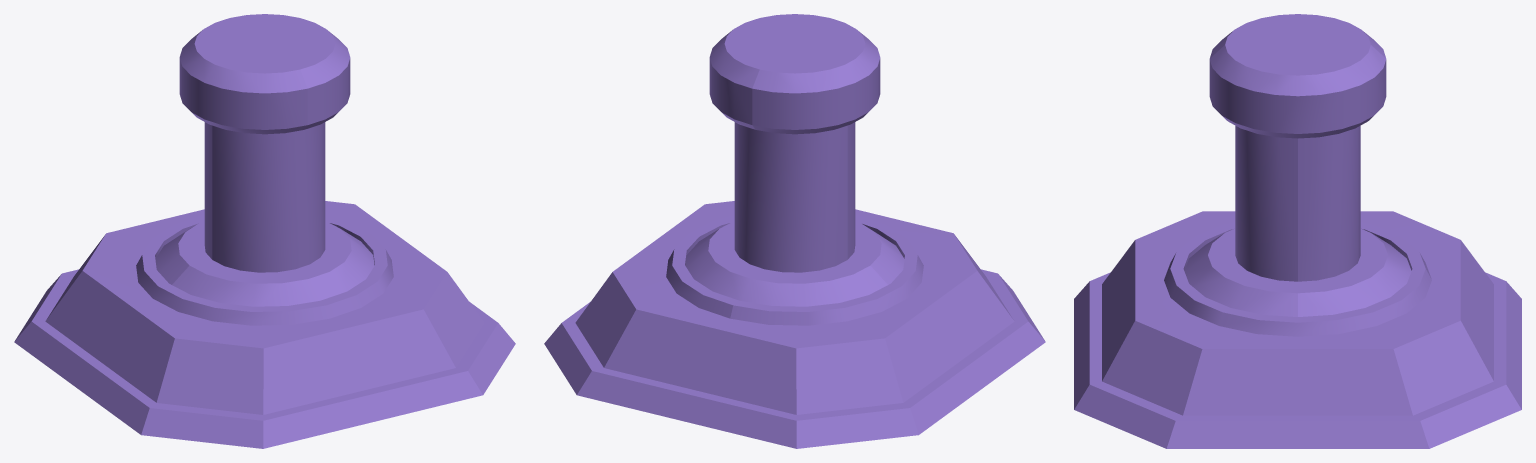
Rendered from env_kinematicbase_spinlever.fbx.
3 views of the same model, side by side, from view 1: azimuth 30°, elevation 25°; view 2: azimuth 150°, elevation 25°; view 3: azimuth 270°, elevation 25° (orthographic). The views are drawn at different scales.
Parts seen in each view (by area): view 1: env_kinematicbase_spinleverbase; view 2: env_kinematicbase_spinleverbase; view 3: env_kinematicbase_spinleverbase.
Part boxes in pixels (x1=…): env_kinematicbase_spinleverbase: x1=14, y1=14, x2=515, y2=448; env_kinematicbase_spinleverbase: x1=544, y1=14, x2=1045, y2=448; env_kinematicbase_spinleverbase: x1=1074, y1=14, x2=1521, y2=448.
Bounding box in the file's own units: 9.98 × 7.61 × 9.98.
